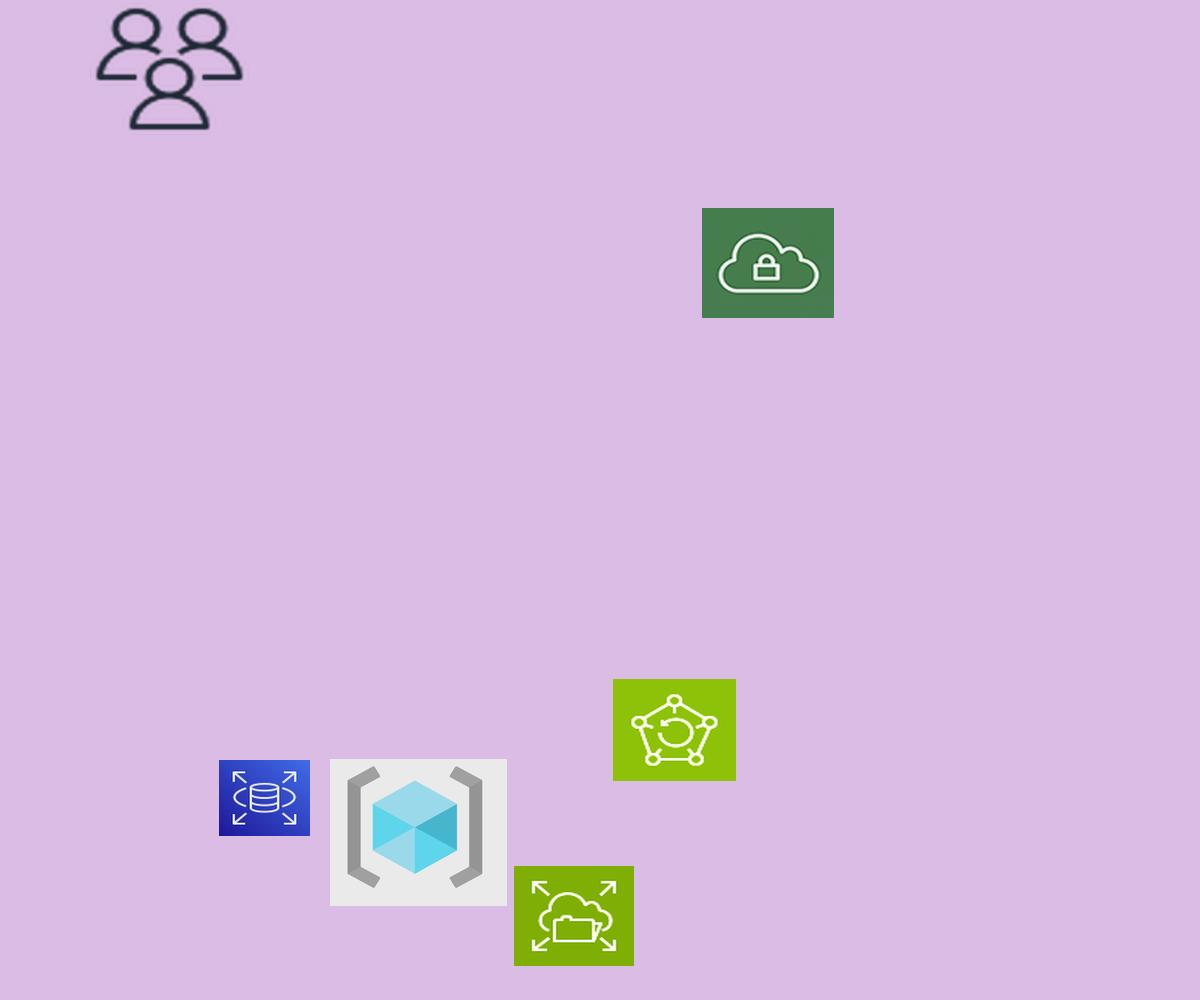AWS-Backup: (613, 679, 736, 781)
AWS-EFS: (514, 866, 634, 966)
AWS-Private_vpc: (702, 208, 834, 318)
AWS-RDS: (219, 760, 310, 836)
AWS-Res_Users: (90, 3, 249, 135)
Azure_resource_group: (330, 759, 507, 906)
